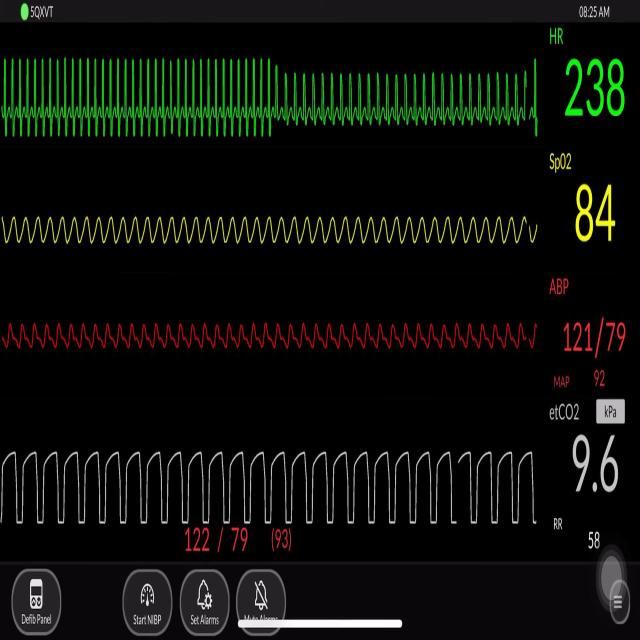danger: (6, 52, 278, 146), (285, 54, 537, 135)
